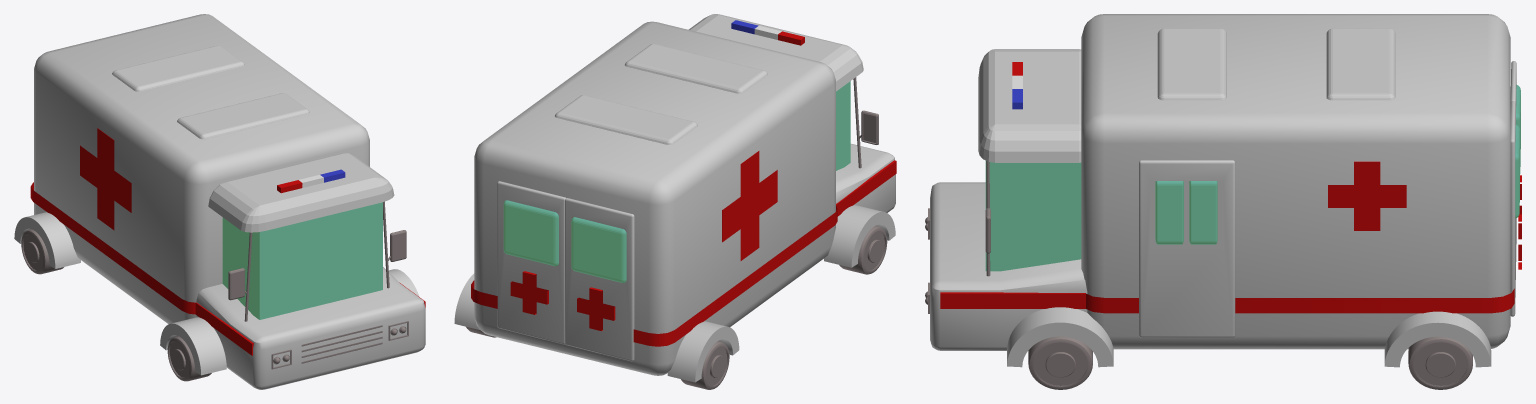
The model's file is Ambulance.fbx.
The picture shows the model from 3 angles, left to right: view 1: azimuth 30°, elevation 25°; view 2: azimuth 150°, elevation 25°; view 3: azimuth 270°, elevation 25°; orthographic projection. The views are drawn at different scales.
Parts seen in each view (by area): view 1: Cube_1_4, avant, Cube_2, TOIT, Cube, Cube_1, croix_1_2, Extrusion_contrôlée_1, Cube_1_3, Extrusion_contrôlée_3, Cylindre_3_3, Cylindre_2 (+3 smaller); view 2: Cube_1_4, porte_4, porte, Cube_1, Cube, TOIT, Cube_1_3, croix_1_2, fenetre_2, fenetre_3, avant, Extrusion_contrôlée_1 (+9 smaller); view 3: Cube_1_4, porte_6, avant, TOIT, Cube_2, Cube_1_3, Cube, Cube_1, Extrusion_contrôlée, Extrusion_contrôlée_4, croix_2_2, Cylindre (+5 smaller).
Boxes of the visible parts, x1,y1,x2,y2 form: Cube_1_4: (34, 14, 369, 324); avant: (196, 267, 425, 389); Cube_2: (222, 202, 382, 319); TOIT: (208, 153, 394, 232); Cube: (112, 45, 244, 91); Cube_1: (177, 93, 309, 139); croix_1_2: (80, 128, 131, 230); Extrusion_contrôlée_1: (160, 317, 226, 375); Cube_1_3: (30, 182, 195, 314); Extrusion_contrôlée_3: (14, 212, 80, 268); Cylindre_3_3: (167, 336, 211, 381); Cylindre_2: (21, 229, 63, 274); Cube_1_4: (474, 21, 835, 375); porte_4: (565, 198, 634, 361); porte: (497, 181, 565, 344); Cube_1: (625, 43, 767, 93); Cube: (555, 95, 697, 144); TOIT: (688, 14, 863, 91); Cube_1_3: (471, 206, 837, 346); croix_1_2: (722, 151, 777, 260); fenetre_2: (503, 200, 558, 266); fenetre_3: (571, 217, 626, 282); avant: (836, 143, 895, 216); Extrusion_contrôlée_1: (824, 205, 895, 267); Cube_1_4: (1081, 14, 1510, 349); porte_6: (1139, 160, 1235, 337); avant: (930, 182, 1087, 350); TOIT: (978, 49, 1081, 162); Cube_2: (985, 161, 1081, 271); Cube_1_3: (1086, 288, 1514, 313); Cube: (1326, 28, 1395, 100); Cube_1: (1157, 28, 1226, 100); Extrusion_contrôlée: (1007, 307, 1113, 367); Extrusion_contrôlée_4: (1384, 311, 1491, 367); croix_2_2: (1328, 161, 1406, 230); Cylindre: (1028, 336, 1092, 389).
Size of the model in its own units: 205 by 175 by 362.
